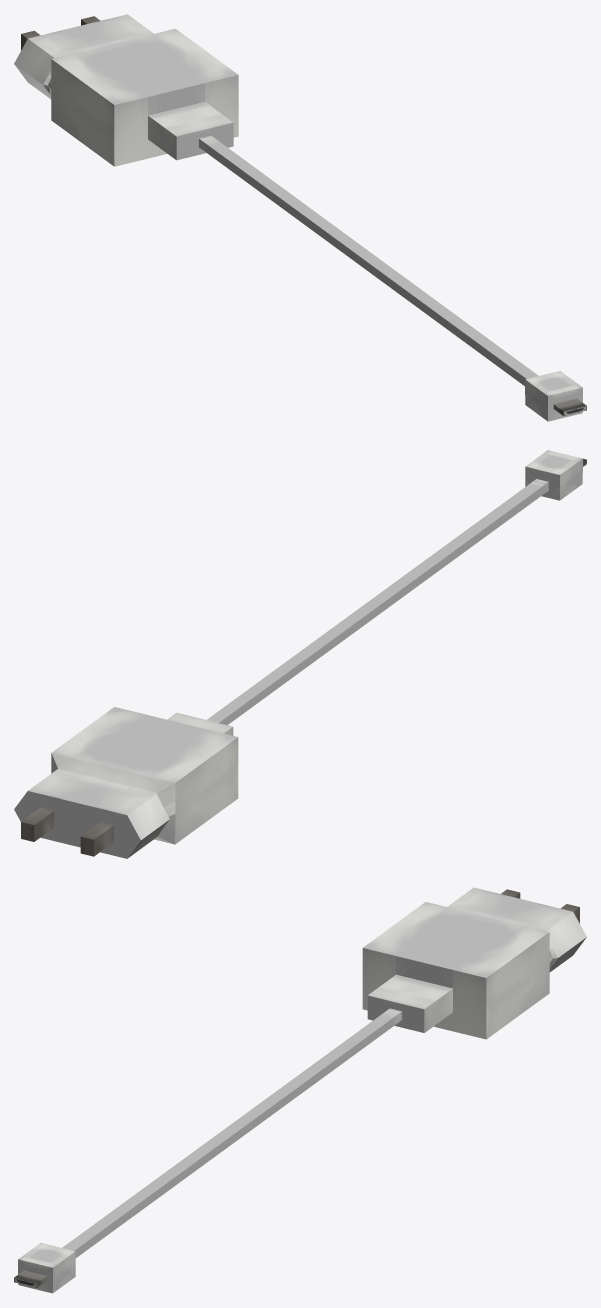
The model's file is cargador.fbx.
3 views of the same model, one above another, from view 1: azimuth 30°, elevation 25°; view 2: azimuth 150°, elevation 25°; view 3: azimuth 330°, elevation 25° (orthographic).
Visible parts, largest first — view 1: Cube; view 2: Cube; view 3: Cube.
Part boxes in pixels (bbox=[...]): Cube: bbox=[14, 14, 586, 421]; Cube: bbox=[14, 450, 586, 858]; Cube: bbox=[14, 887, 586, 1293].
Size of the model in its own units: 205 by 94.94 by 1446.
1 material, 1 textured.
